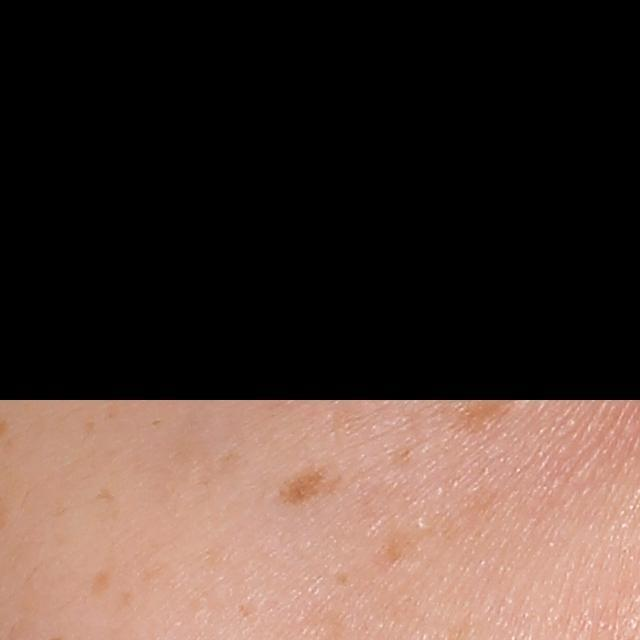melasma: (438, 378, 525, 442), (262, 449, 353, 510), (85, 564, 114, 599), (91, 483, 121, 507)
